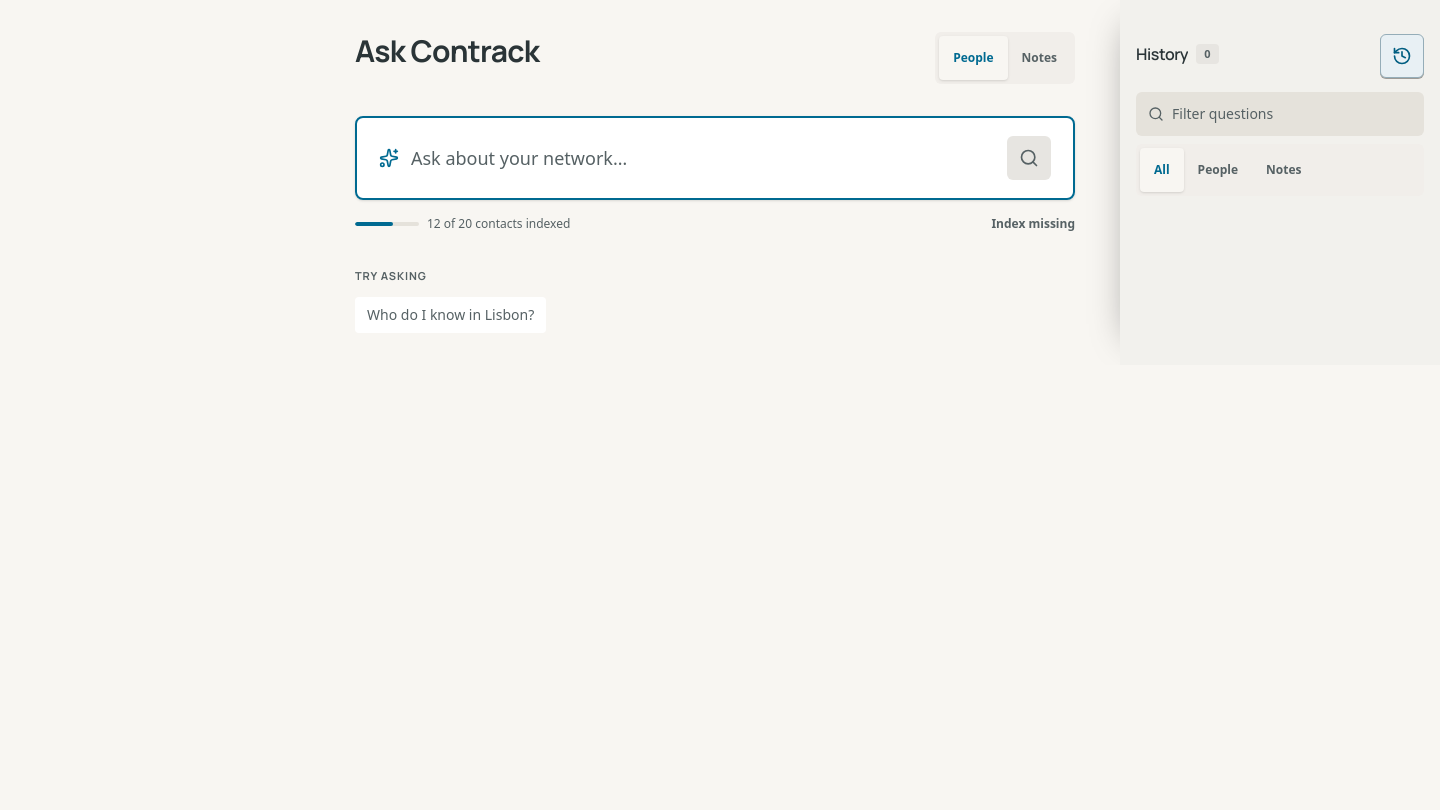
Test case: SearchView - the coverage row › asks before a paid provider embeds anything
The image size is (1440, 810).
expect the text "12 of 20 contacts indexed" is shown: met, box [427, 216, 570, 232]
Click the button "Index missing" at x=1033, y=224, box [983, 212, 1083, 236]
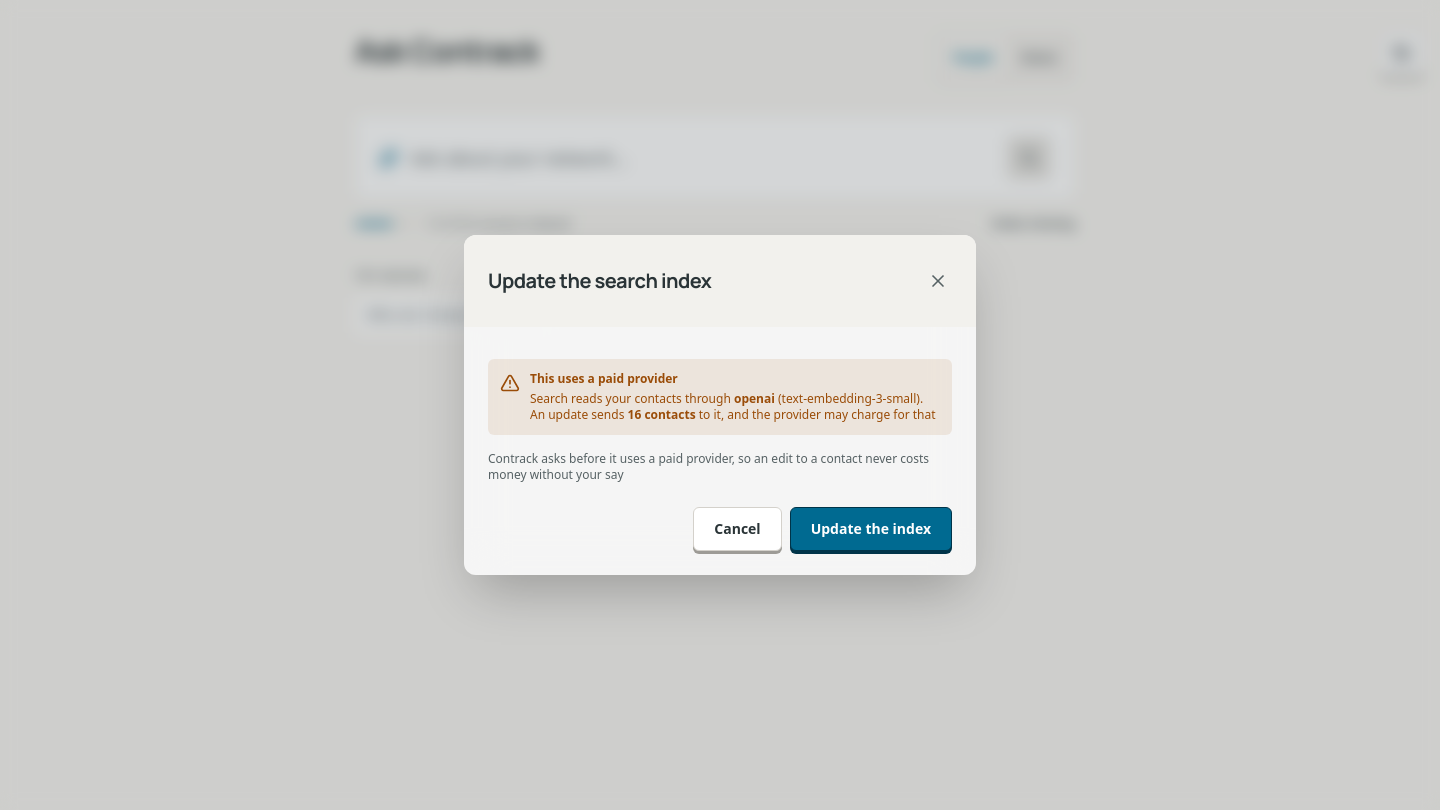
expect the button "Update the index" is shown: met, box [790, 507, 952, 551]
